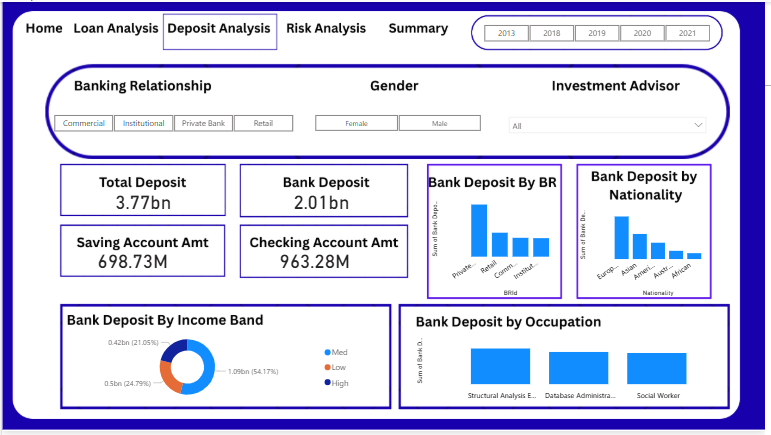

What the dashboard file says about the page in this screenshot:
{"tool":"powerbi","page":{"name":"Deposit Analysis","canvas":[1280,720],"ordinal":2},"visuals":[{"type":"slicer","fields":{"Values":["Clients - Banking.Year of Joining"]},"box":[783.4,31.9,427.8,40.3],"z":0},{"type":"actionButton","box":[25.2,23.5,99,48.7],"z":1000},{"type":"actionButton","box":[468,20.1,151,52],"z":2000},{"type":"actionButton","box":[630.8,20.1,146,52],"z":3000},{"type":"card","fields":{"Values":["Clients - Banking.Total Deposit"]},"box":[148.8,318.9,175.7,51],"z":4000},{"type":"card","fields":{"Values":["Sum(Clients - Banking.Bank Deposits)"]},"box":[440.8,318.9,189.9,51],"z":5000},{"type":"card","fields":{"Values":["Sum(Clients - Banking.Saving Accounts)"]},"box":[124.7,418.1,189.9,51],"z":6000},{"type":"card","fields":{"Values":["Sum(Clients - Banking.Checking Accounts)"]},"box":[429.4,418.1,189.9,51],"z":7000},{"type":"donutChart","fields":{"Category":["Clients - Banking.Income Band"],"Y":["Sum(Clients - Banking.Bank Deposits)"]},"box":[78,548.5,518.7,127.6],"z":8000},{"type":"clusteredColumnChart","fields":{"Category":["Clients - Banking.BRId"],"Y":["Sum(Clients - Banking.Bank Deposits)"]},"box":[716.3,318.7,221.4,179.5],"z":9000},{"type":"clusteredColumnChart","fields":{"Category":["Clients - Banking.Nationality"],"Y":["Sum(Clients - Banking.Bank Deposits)"]},"box":[964.6,335.5,226.5,162.7],"z":10000},{"type":"clusteredColumnChart","fields":{"Category":["Clients - Banking.Occupation"],"Y":["Sum(Clients - Banking.Bank Deposits)"]},"box":[691.2,548.6,520.1,127.5],"z":11000},{"type":"slicer","fields":{"Values":["Clients - Banking.BRId"]},"box":[62.1,182.9,449.6,40.3],"z":12000},{"type":"slicer","fields":{"Values":["Clients - Banking.GenderId"]},"box":[499.9,182.9,327.1,40.3],"z":13000},{"type":"slicer","fields":{"Values":["Investment Advisor.IAId"]},"box":[840.5,182.9,350.6,40.3],"z":14000},{"type":"actionButton","box":[112.4,20.1,154.3,57],"z":15000}]}

Visuals, with their boxes in screenshot pixels (x1, y1, x2, y2), scaled from the page's 1280x720 canvas onto the 771x435 screenshot:
slicer - Clients - Banking.Year of Joining: box(472, 19, 730, 44)
actionButton: box(15, 14, 75, 44)
actionButton: box(282, 12, 373, 44)
actionButton: box(380, 12, 468, 44)
card - Clients - Banking.Total Deposit: box(90, 193, 195, 223)
card - Sum(Clients - Banking.Bank Deposits): box(266, 193, 380, 223)
card - Sum(Clients - Banking.Saving Accounts): box(75, 253, 189, 283)
card - Sum(Clients - Banking.Checking Accounts): box(259, 253, 373, 283)
donutChart - Clients - Banking.Income Band x Sum(Clients - Banking.Bank Deposits): box(47, 331, 359, 408)
clusteredColumnChart - Clients - Banking.BRId x Sum(Clients - Banking.Bank Deposits): box(431, 193, 565, 301)
clusteredColumnChart - Clients - Banking.Nationality x Sum(Clients - Banking.Bank Deposits): box(581, 203, 717, 301)
clusteredColumnChart - Clients - Banking.Occupation x Sum(Clients - Banking.Bank Deposits): box(416, 331, 730, 408)
slicer - Clients - Banking.BRId: box(37, 111, 308, 135)
slicer - Clients - Banking.GenderId: box(301, 111, 498, 135)
slicer - Investment Advisor.IAId: box(506, 111, 717, 135)
actionButton: box(68, 12, 161, 47)
